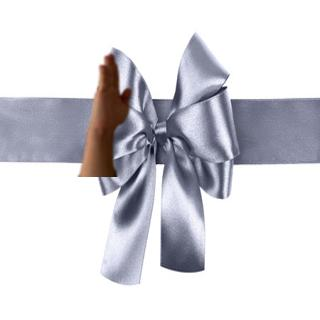RIGHT: (88, 50, 135, 140)
